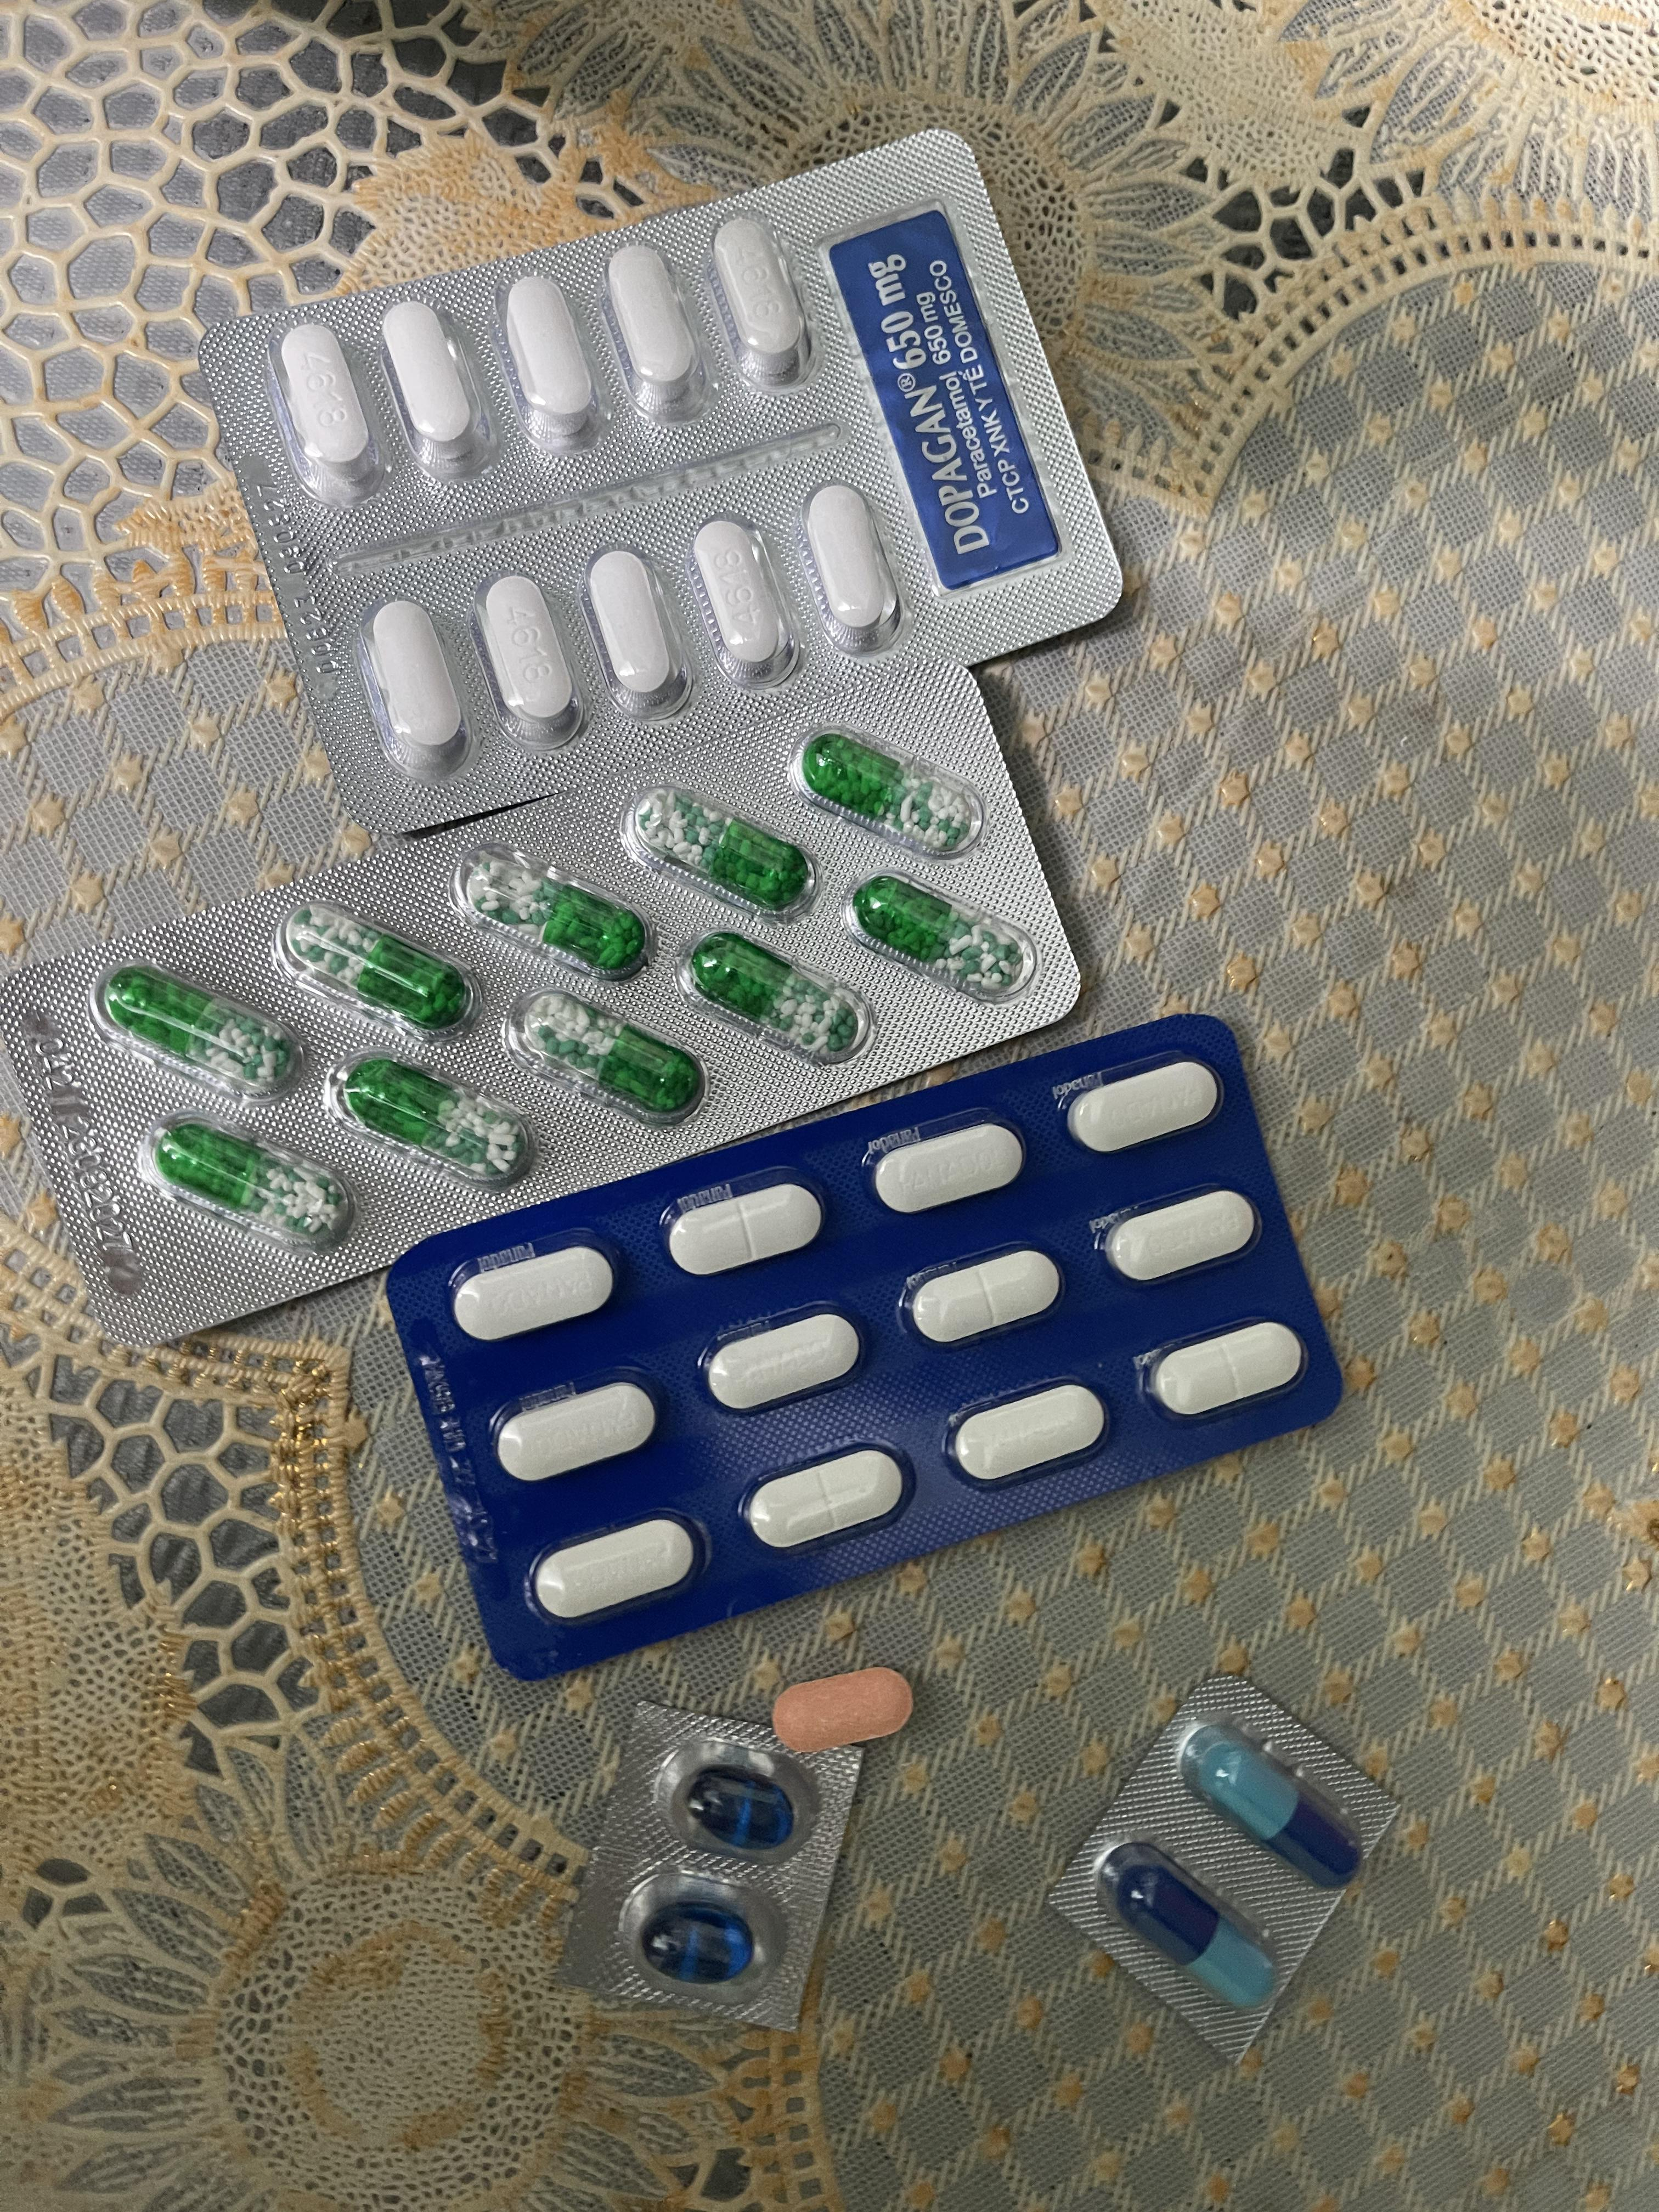Lincomyxin_500mg: (683, 1766, 798, 1850), (643, 1902, 756, 1982)
Loratadine_10mg: (770, 1667, 915, 1756)
Paracetamol_350mg: (530, 1517, 704, 1623), (491, 1378, 660, 1484), (744, 1446, 913, 1552), (701, 1308, 866, 1414), (946, 1381, 1108, 1487), (453, 1240, 619, 1341), (906, 1247, 1066, 1346), (664, 1177, 826, 1275), (866, 1120, 1026, 1216), (1101, 1188, 1256, 1284), (1150, 1322, 1298, 1418), (1066, 1057, 1211, 1150)
Paracetamol_500mg: (472, 570, 589, 744), (582, 547, 694, 721), (277, 320, 383, 502), (361, 601, 471, 773), (380, 301, 484, 479), (690, 517, 798, 685), (711, 214, 810, 385), (605, 242, 702, 413), (504, 275, 598, 451), (807, 484, 889, 631)
Paracetamol_650mg: (92, 958, 300, 1097), (281, 899, 479, 1033), (448, 843, 653, 972), (507, 991, 706, 1116), (326, 1055, 530, 1177), (627, 780, 821, 904), (681, 939, 868, 1062), (152, 1125, 342, 1235), (800, 735, 972, 843), (856, 880, 1019, 988)
pill: (1183, 1719, 1363, 1886), (1110, 1843, 1276, 2006)
